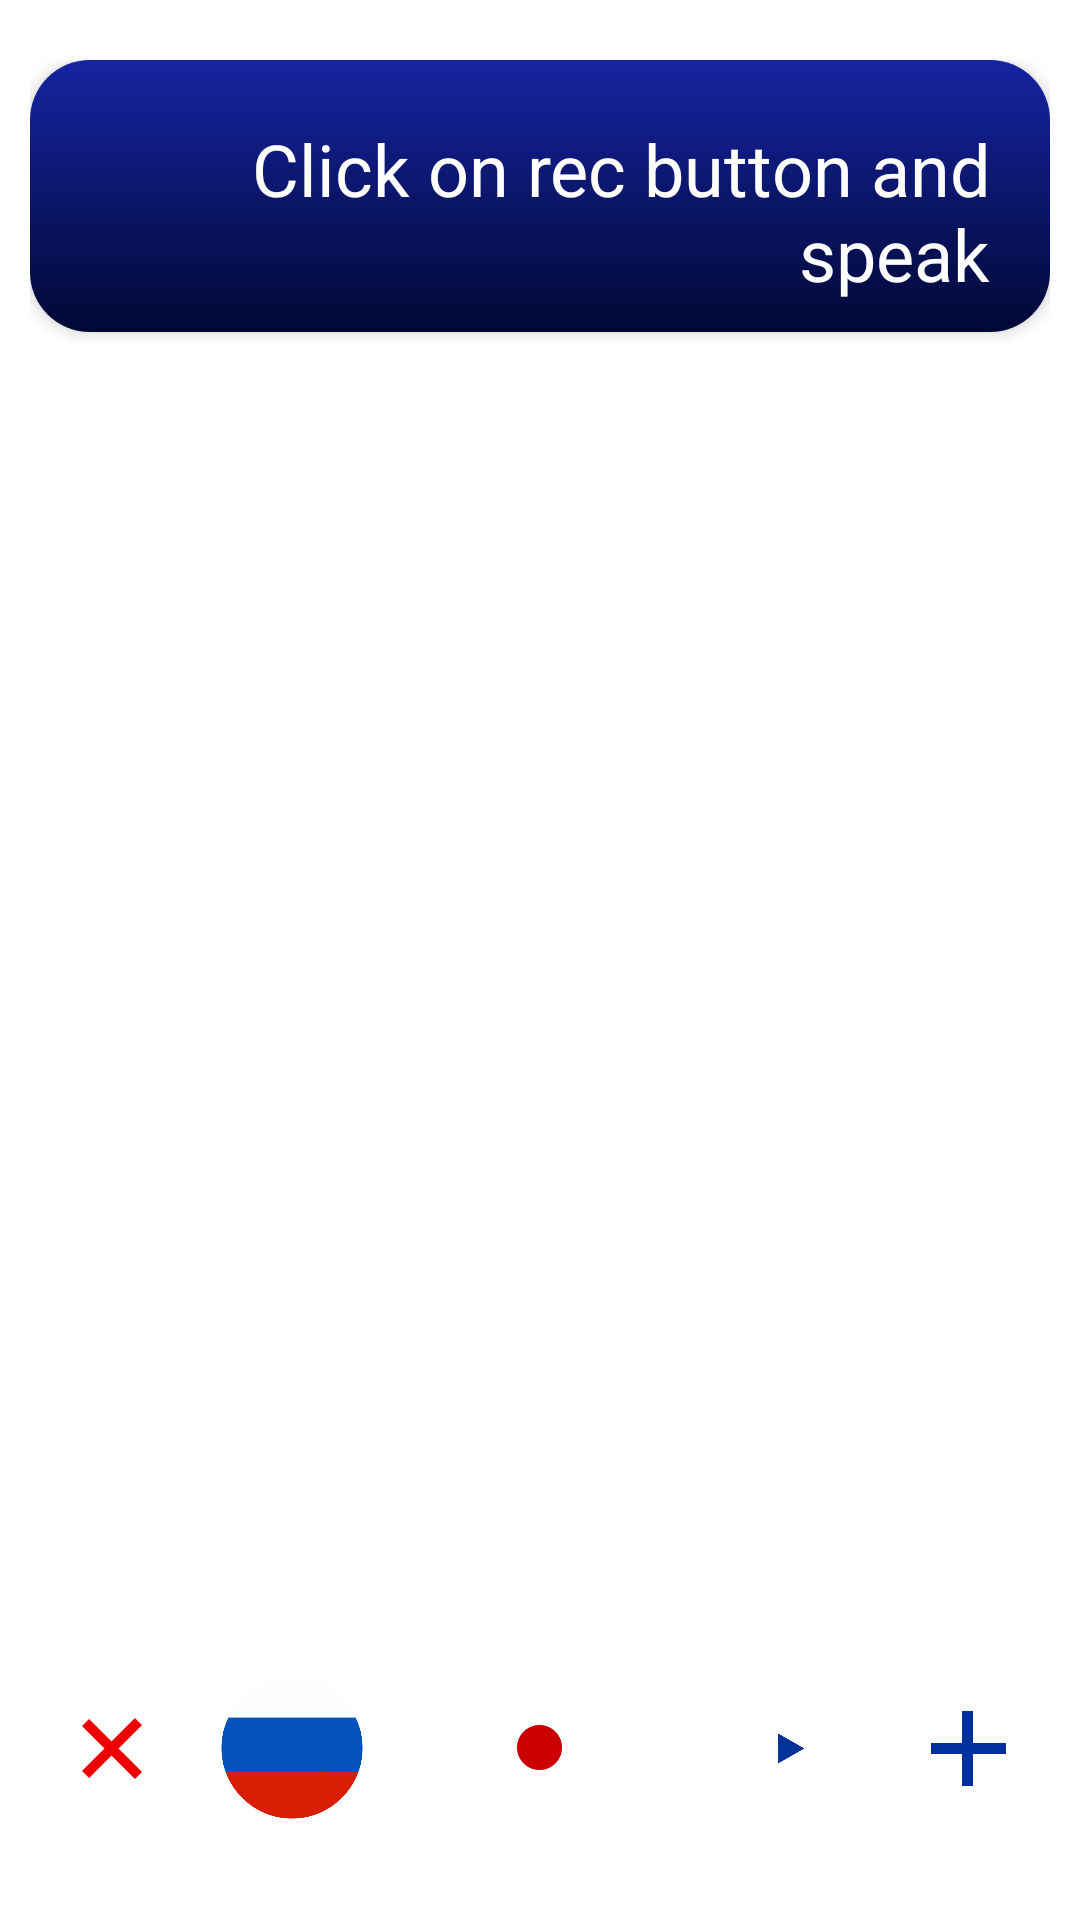

Screen size 1080*1920. Icon name, then its center in pixels as (x,y):
add note: (968,1748)
canel: (112,1748)
language russian: (292,1768)
play text: (791,1748)
start record voice: (539,1747)
